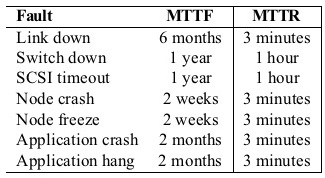column: (16, 1, 140, 178), (243, 1, 312, 178), (158, 1, 223, 178)
row: (1, 50, 325, 68), (1, 70, 325, 88), (1, 152, 325, 170), (1, 132, 325, 149), (1, 30, 325, 44), (1, 91, 325, 105), (1, 112, 325, 126), (1, 8, 325, 21)
